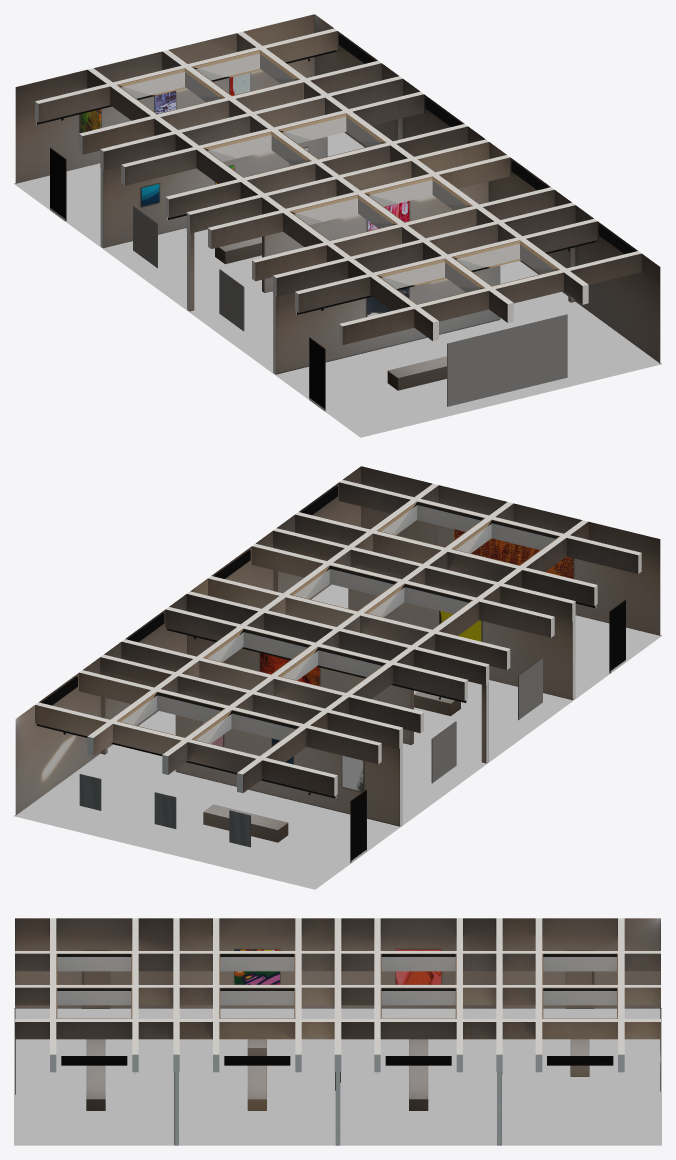
3 views of the same model, one above another, from view 1: azimuth 30°, elevation 25°; view 2: azimuth 150°, elevation 25°; view 3: azimuth 270°, elevation 25° (orthographic). The views are drawn at different scales.
Visible parts, largest first — view 1: beams, floor, walls, walls_interior, frames, lamps, props; view 2: beams, floor, walls, walls_interior, frames, lamps, props; view 3: floor, beams, walls, props, lamps, frames, walls_interior.
Boxes of the visible parts, x1,y1,x2,y2 form: beams: [35, 28, 641, 345]; floor: [14, 132, 661, 437]; walls: [14, 14, 661, 411]; walls_interior: [100, 118, 575, 374]; frames: [79, 72, 567, 406]; lamps: [36, 50, 596, 314]; props: [215, 35, 635, 390]; beams: [35, 479, 641, 796]; floor: [14, 584, 661, 889]; walls: [14, 466, 661, 863]; walls_interior: [100, 570, 575, 826]; frames: [79, 529, 573, 847]; lamps: [36, 501, 596, 798]; props: [41, 486, 460, 842]; floor: [14, 1008, 661, 1145]; beams: [15, 918, 660, 1072]; walls: [14, 918, 661, 1008]; props: [61, 1039, 613, 1110]; lamps: [56, 953, 621, 1074]; frames: [15, 949, 660, 1094]; walls_interior: [174, 1072, 501, 1145].
Bounding box in the file's own units: 397 × 122 × 790.
